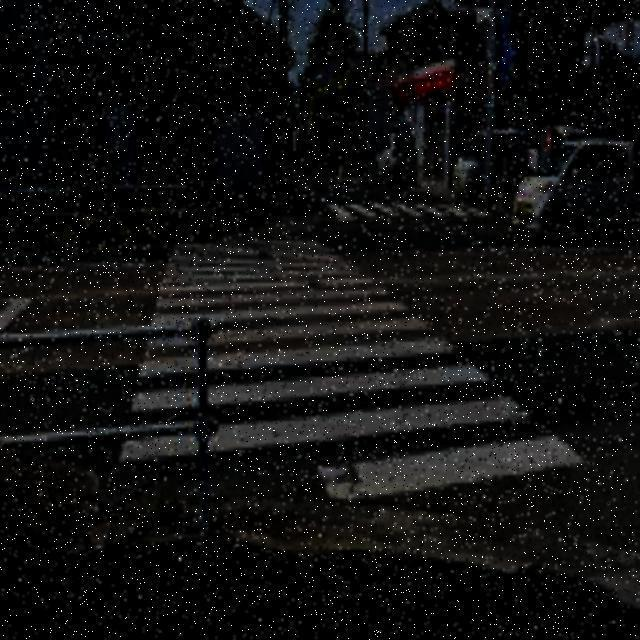Pedestrian crosswalk: (116, 233, 570, 499), (318, 193, 507, 236)
